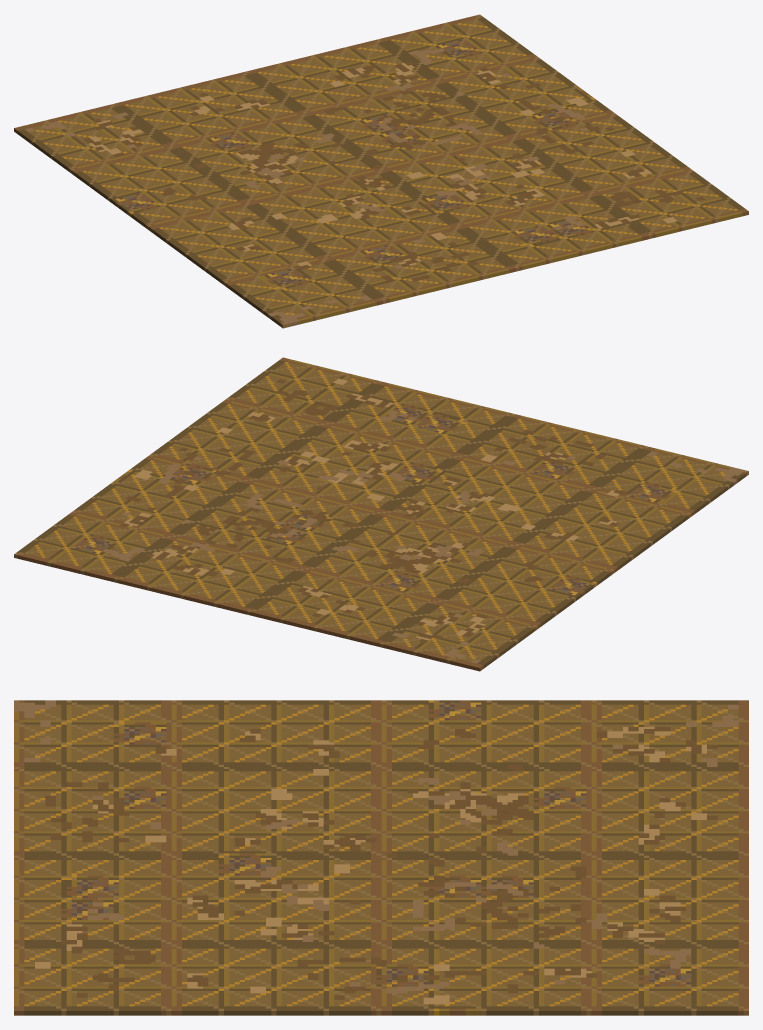
File: floor-0.obj
3 renders of one model, top to bottom at view 1: azimuth 30°, elevation 25°; view 2: azimuth 150°, elevation 25°; view 3: azimuth 270°, elevation 25°, orthographic. The views are drawn at different scales.
Size of the model in its own units: 14 by 0.1 by 14.
1 material, 1 textured.
